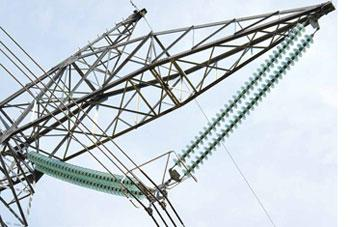isolator: (172, 22, 314, 176), (27, 151, 142, 199)
